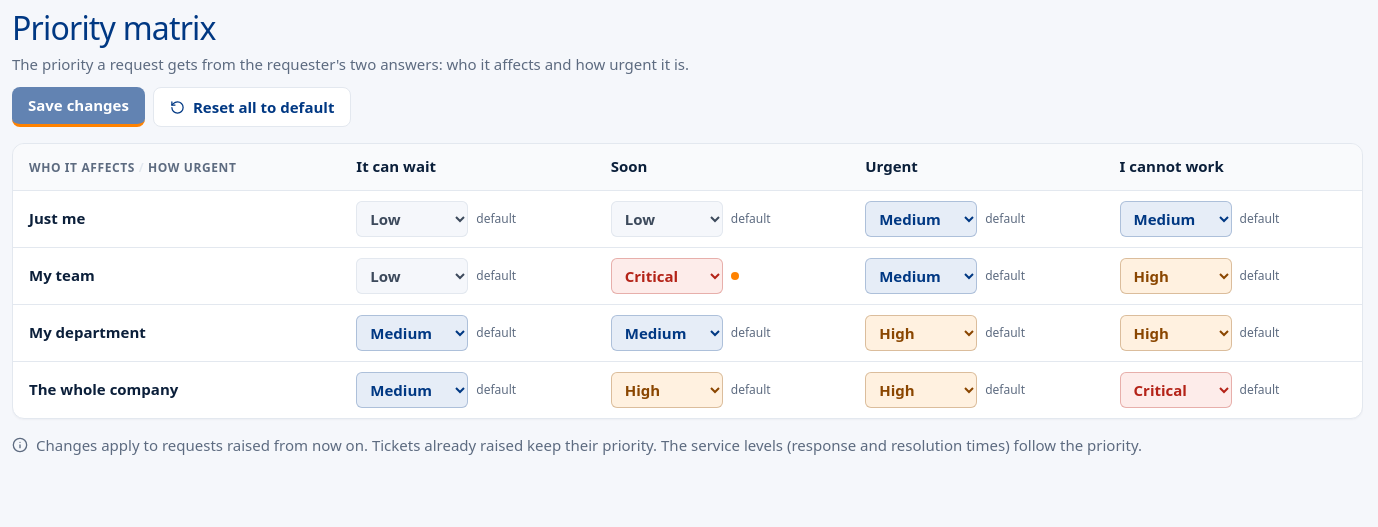
Priority matrix › shows a 400's message and keeps the unsaved choice
Select "Critical" in the dropdown named "Just me, Soon" at x=667, y=219, box x1=611 y1=201 x2=723 y2=237
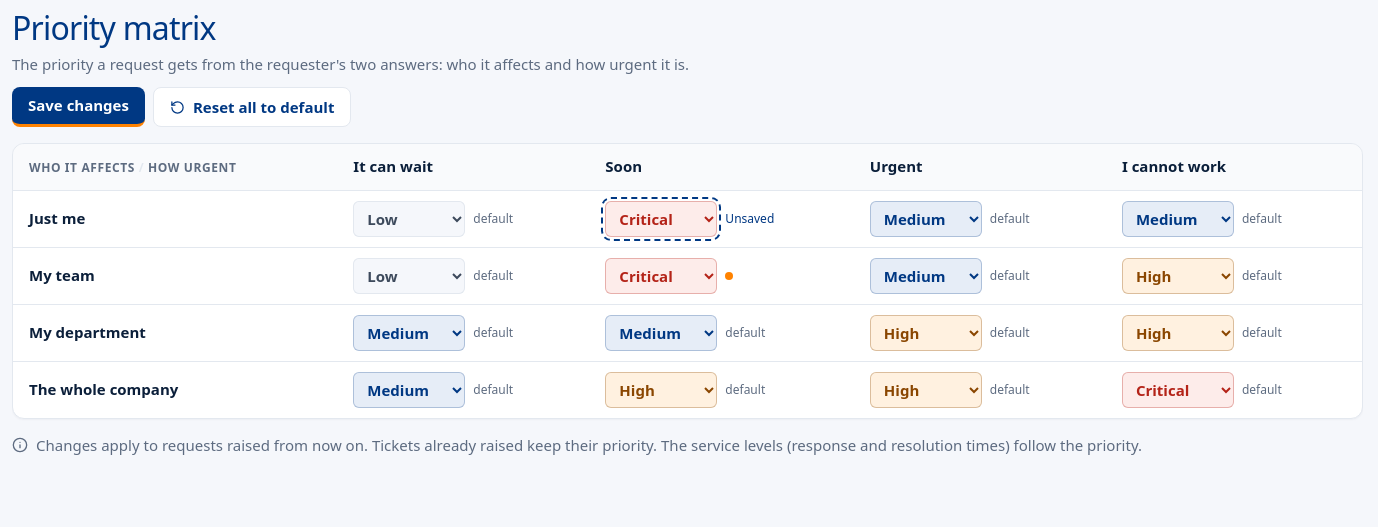
Click the button "Save changes" at x=78, y=107, box x1=12 y1=87 x2=145 y2=127
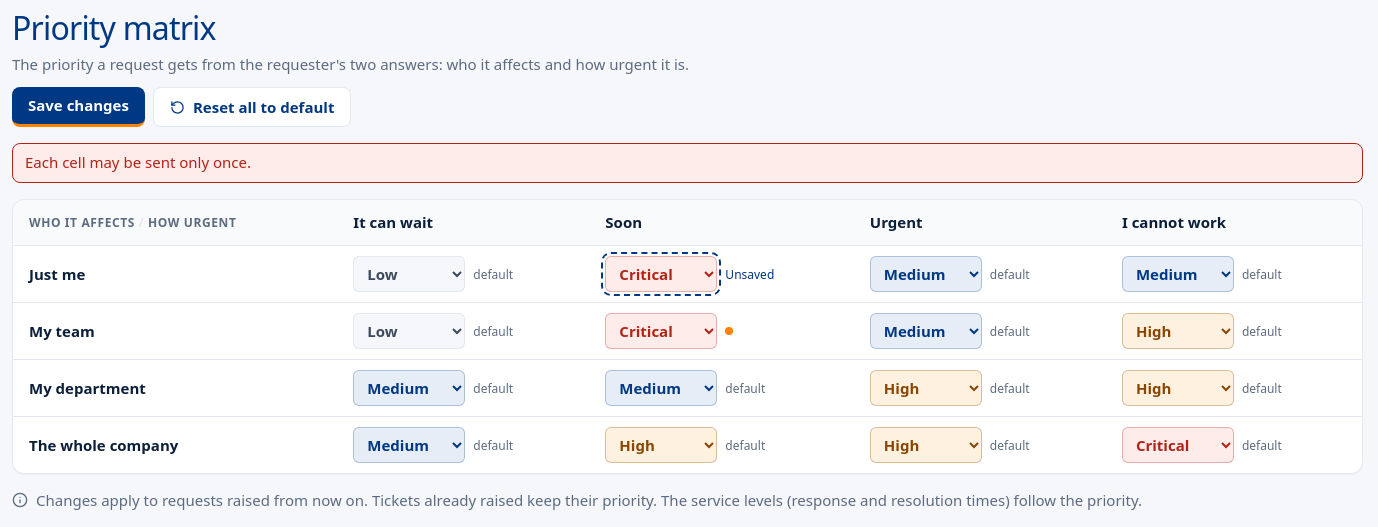
Now the message reads "Each cell may be sent only once.", box x1=25 y1=152 x2=251 y2=172
